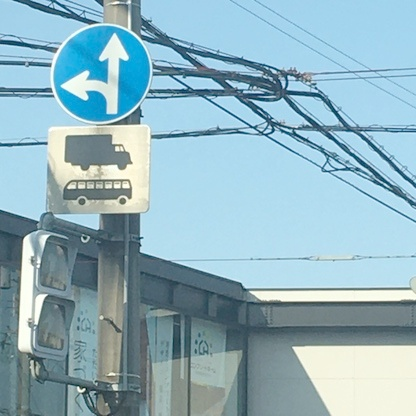Direction_sign: (30, 19, 162, 125)
